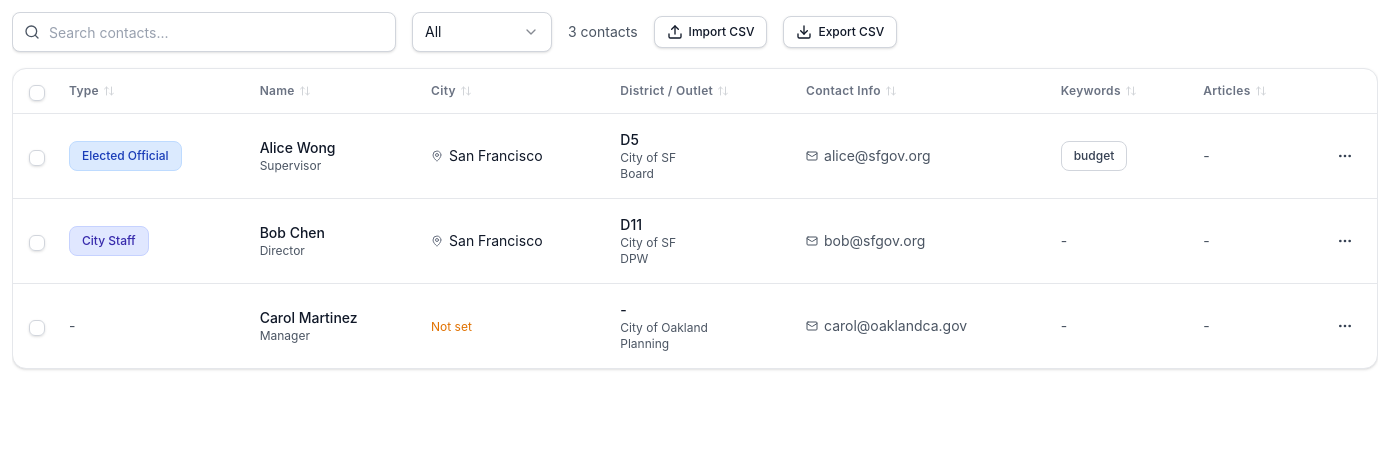
Scenario: ContactsTable › clears selection when Clear Selection is clicked
// Select all
Click the 1st checkbox: (37, 93) [29,85,45,101]
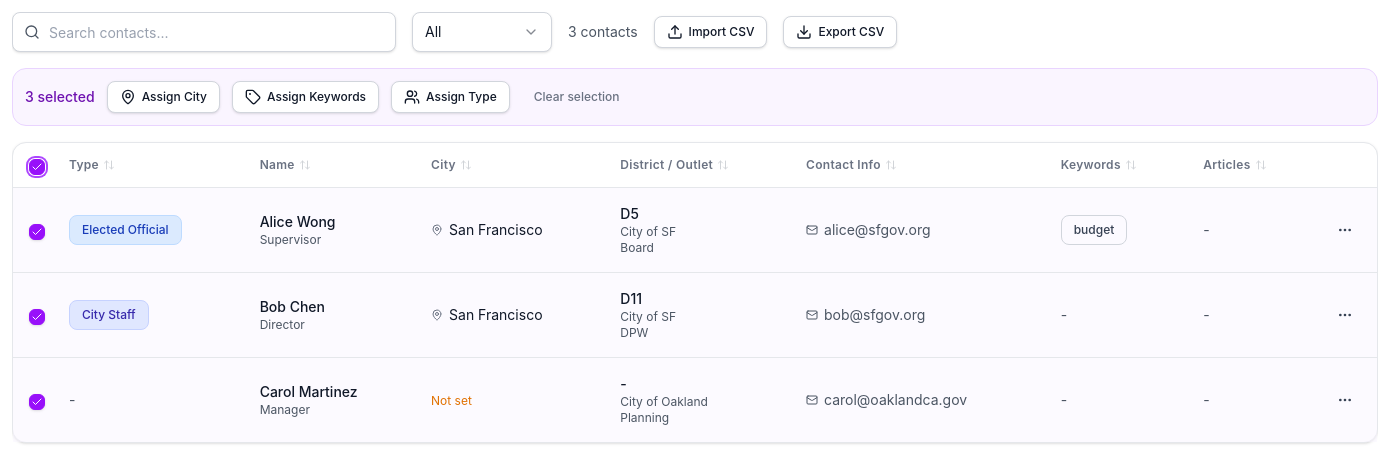
Check: the text "3 selected" is shown, box [25,87,95,107]
Click the button "Clear selection": (577, 97) [522,81,631,113]
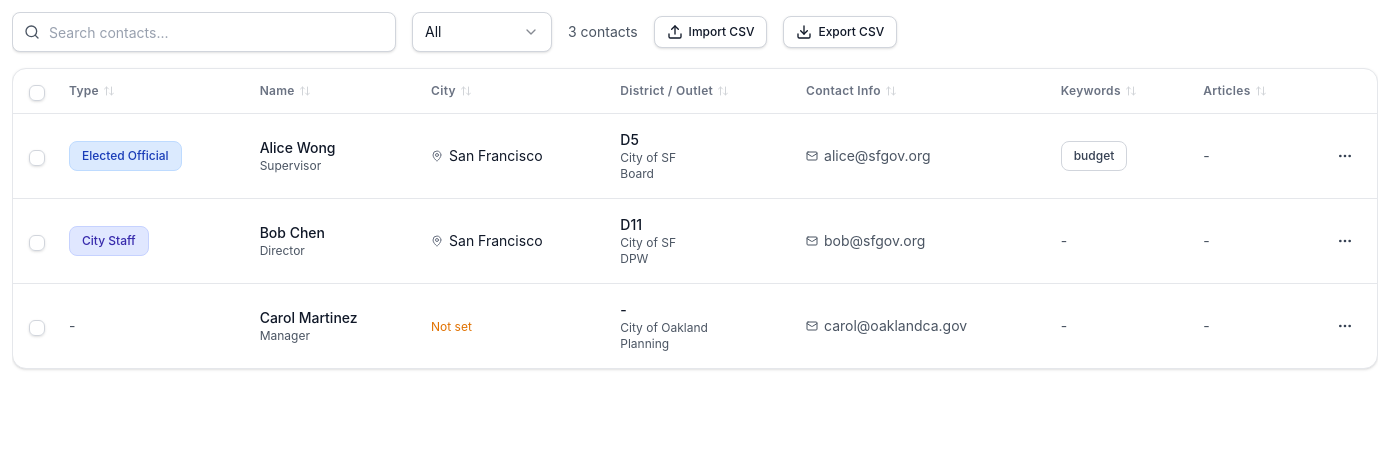
Check: the text "selected" is gone
